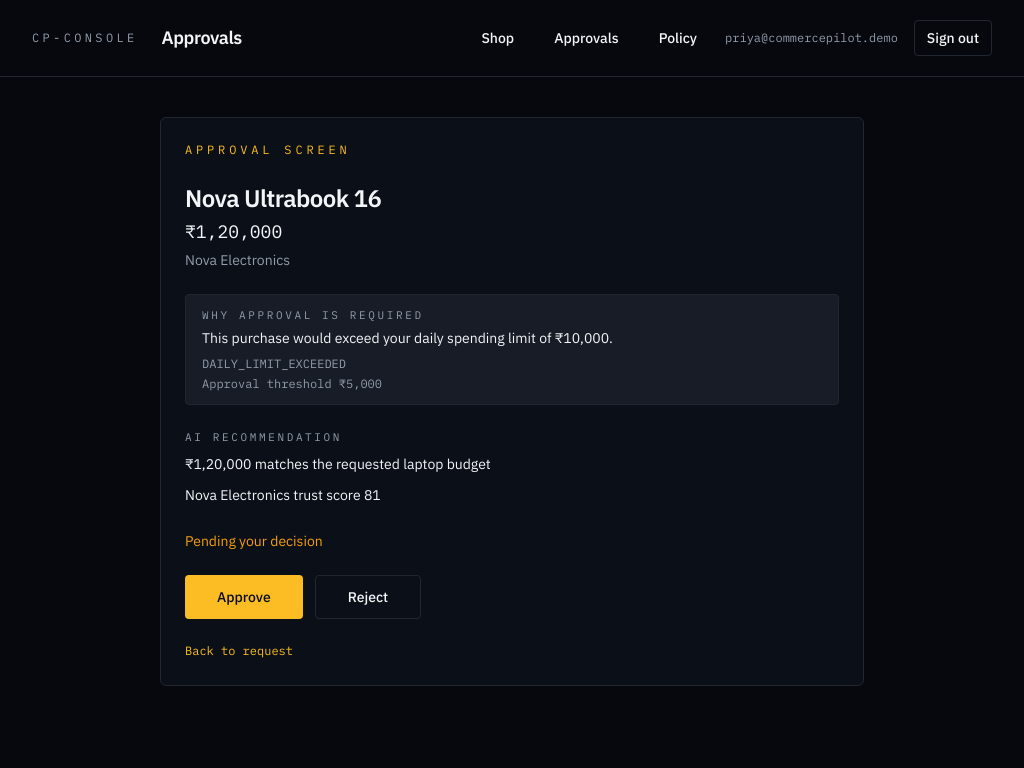
Test: ApprovalScreen › disables Approve and Reject immediately on click, before the response returns
Click the button "Approve" at coordinates (244, 596), box 185,574 -> 303,618
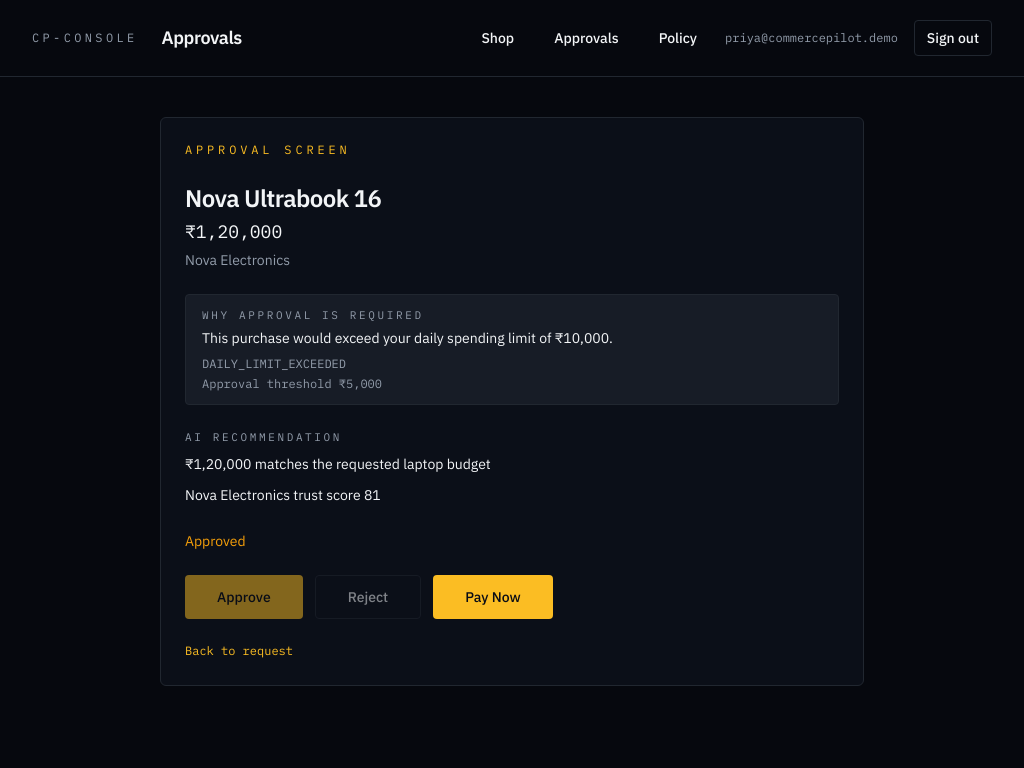
Expected: the button "Approve" is disabled, 185,574 -> 303,618
Expected: the button "Reject" is disabled, 315,574 -> 421,618
Expected: the text with test id "approval-status" reads "Approved", 185,532 -> 246,550
